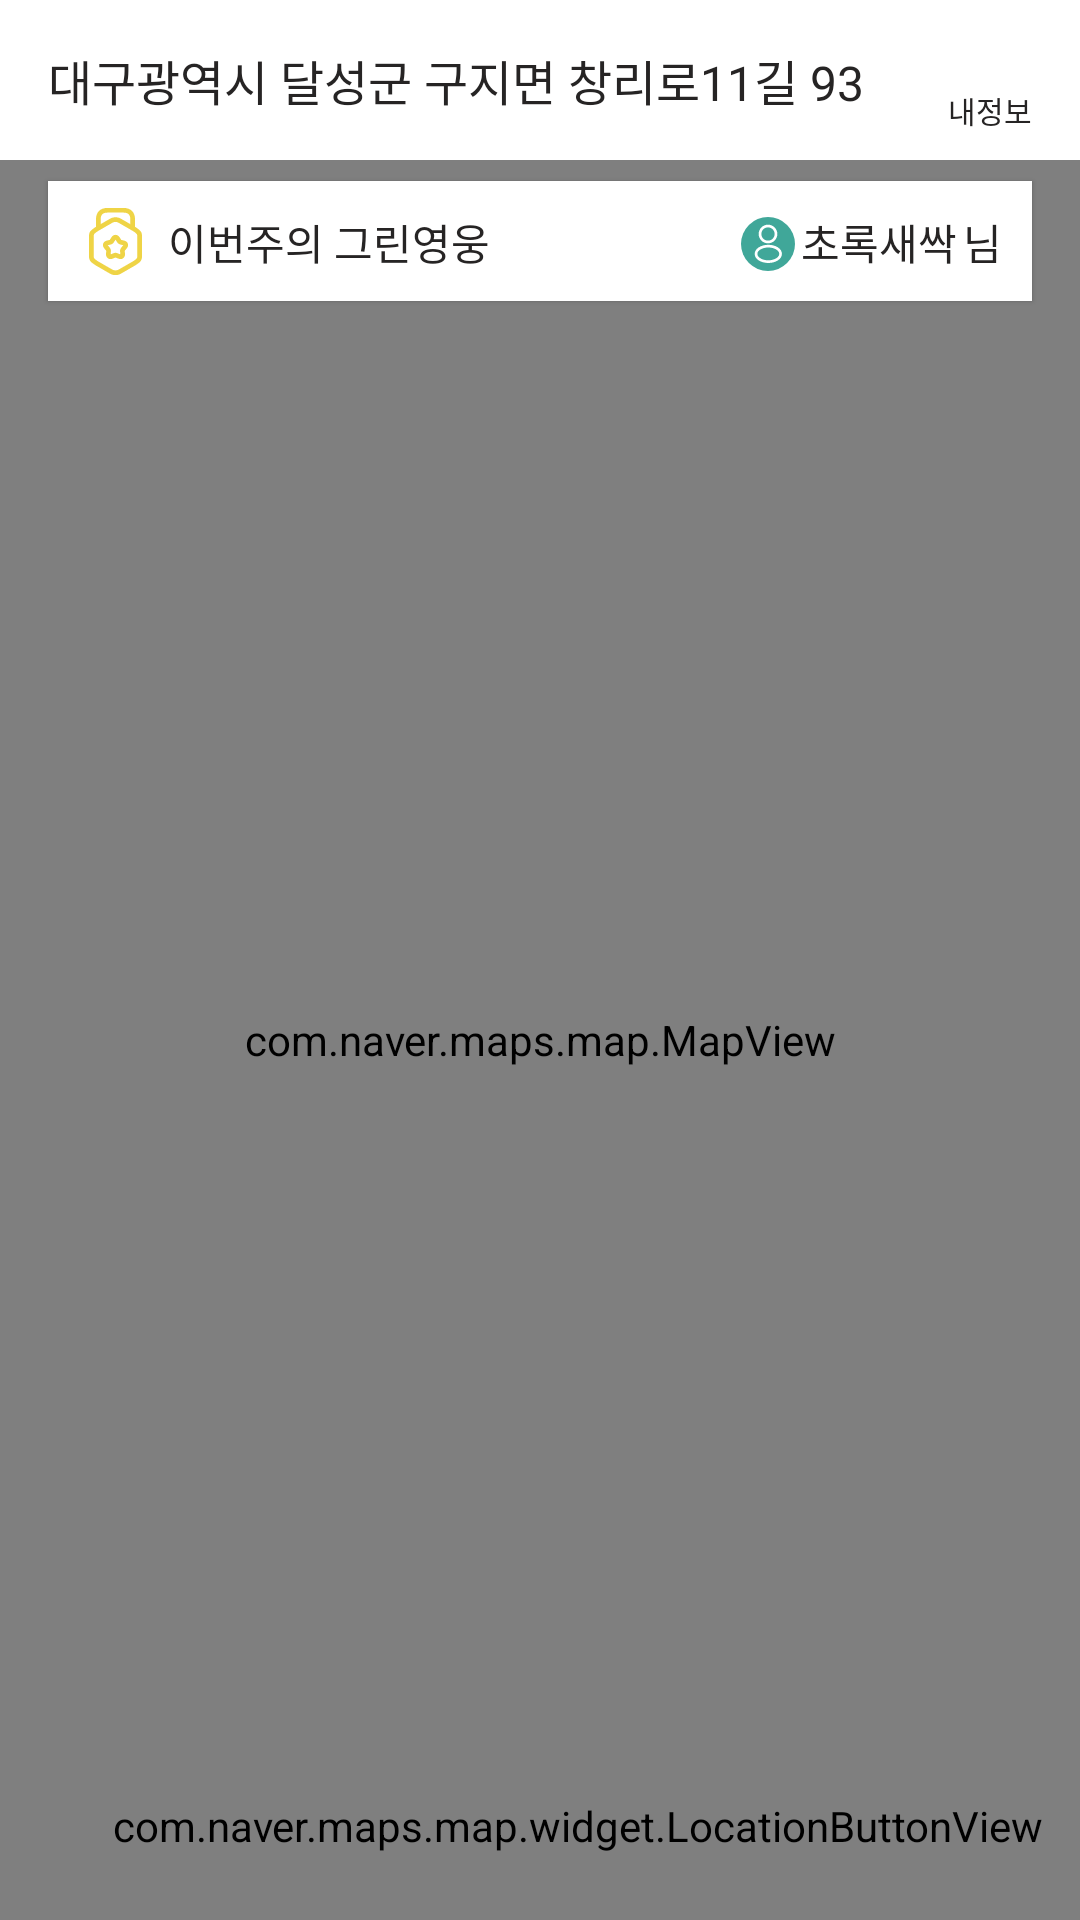

Locate icon controls on the screen. Image size 1080x1920, boxes as bbox=[x1, y1, x2, y2].
award: bbox=[89, 208, 142, 275]
profile: bbox=[741, 217, 795, 271]
